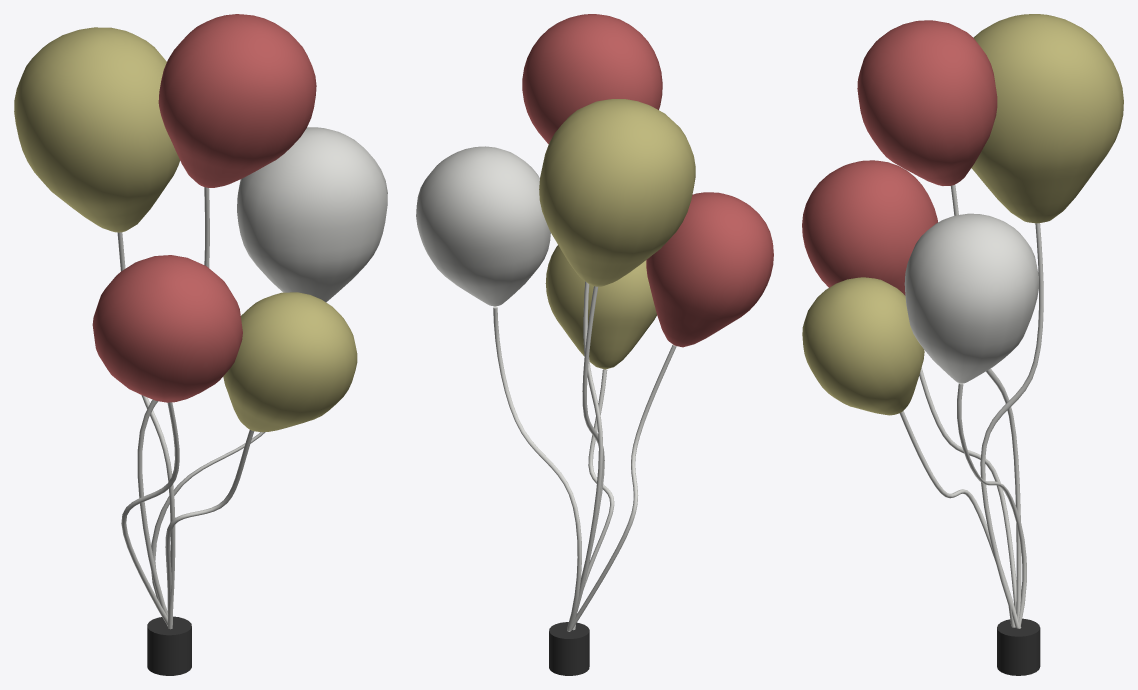
Rendered from Balloons.fbx.
3 views of the same model, side by side, from view 1: azimuth 30°, elevation 25°; view 2: azimuth 150°, elevation 25°; view 3: azimuth 270°, elevation 25° (orthographic). The views are drawn at different scales.
Parts seen in each view (by area): view 1: Balloons; view 2: Balloons; view 3: Balloons.
Boxes of the visible parts, x1,y1,x2,y2 form: Balloons: [14, 14, 387, 675]; Balloons: [416, 14, 773, 675]; Balloons: [802, 14, 1123, 675].
Bounding box in the file's own units: 1.68 × 3.32 × 1.49.
